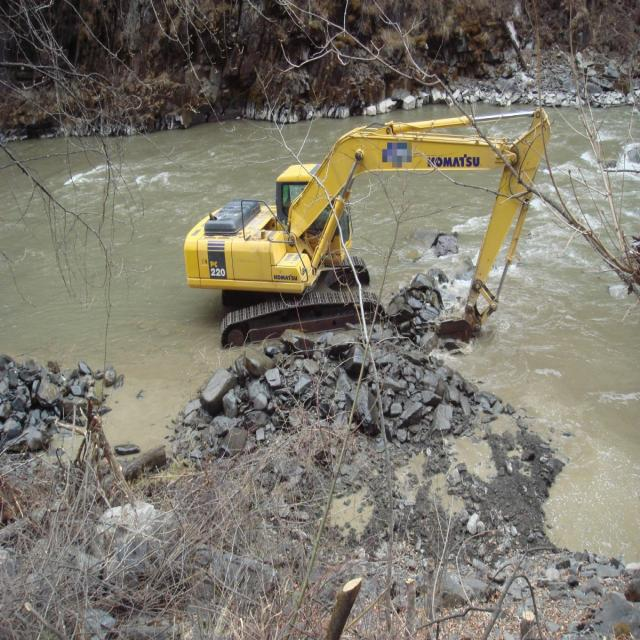excavator: (184, 107, 552, 347)
